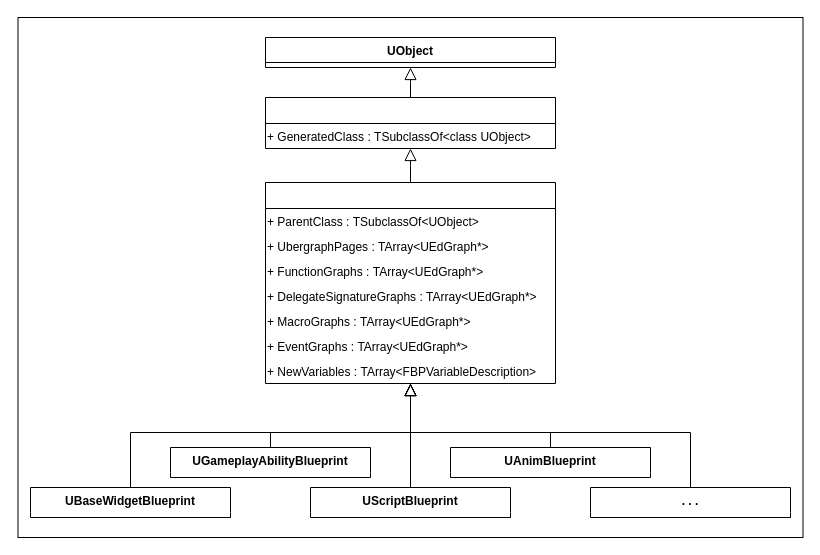
This 820x555 diagram has some shape labels left out. Here are the shapes that lost their labels. From the top down, the box of each, then its label:
(264, 96, 556, 148): UBlueprintCore
(264, 182, 556, 384): UBlueprint
